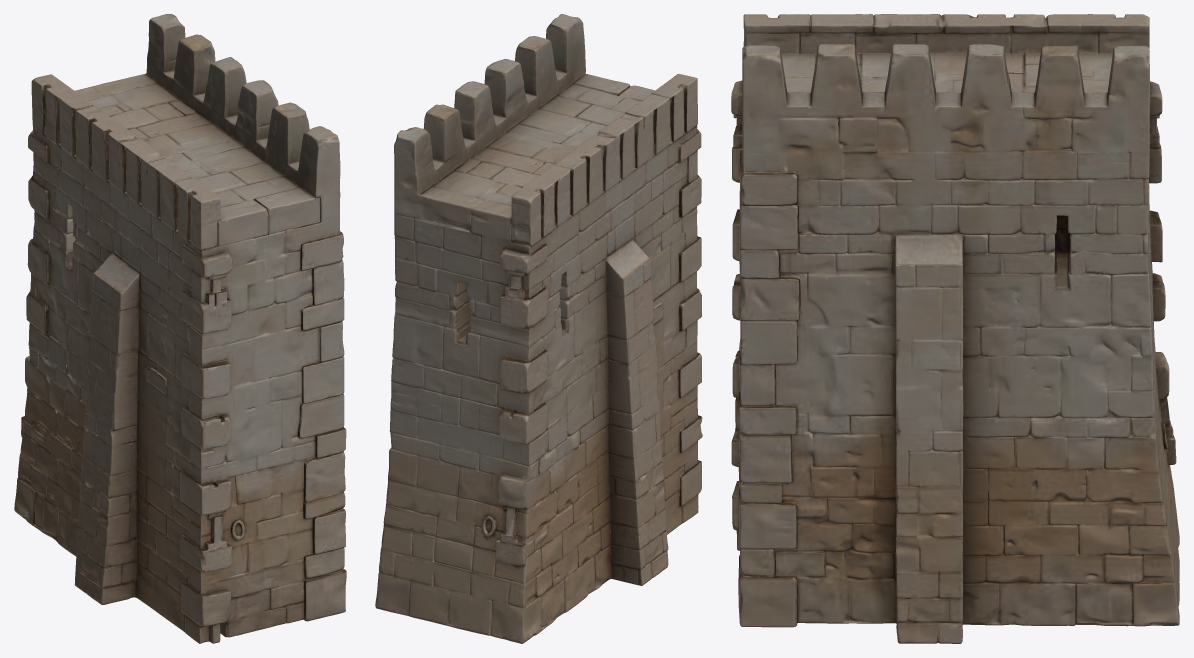
File: stone-wall.glb
3 views of the same model, side by side, from view 1: azimuth 30°, elevation 25°; view 2: azimuth 150°, elevation 25°; view 3: azimuth 270°, elevation 25° (orthographic). The views are drawn at different scales.
Visible parts, largest first — view 1: tripo_node_d7dcd254-c17c-4203-a957-499ab38bc385; view 2: tripo_node_d7dcd254-c17c-4203-a957-499ab38bc385; view 3: tripo_node_d7dcd254-c17c-4203-a957-499ab38bc385.
Boxes of the visible parts, bbox=[...] form: tripo_node_d7dcd254-c17c-4203-a957-499ab38bc385: bbox=[14, 14, 346, 643]; tripo_node_d7dcd254-c17c-4203-a957-499ab38bc385: bbox=[375, 14, 702, 643]; tripo_node_d7dcd254-c17c-4203-a957-499ab38bc385: bbox=[731, 14, 1179, 643].
Size of the model in its own units: 0.4648 by 1 by 0.7134.
Materials: 1 (1 with a texture image).
